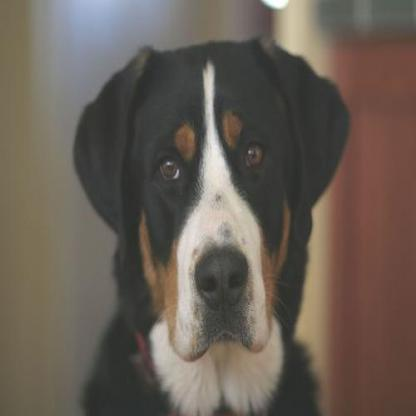Greater_Swiss_Mountain_dog: (71, 35, 351, 413)
